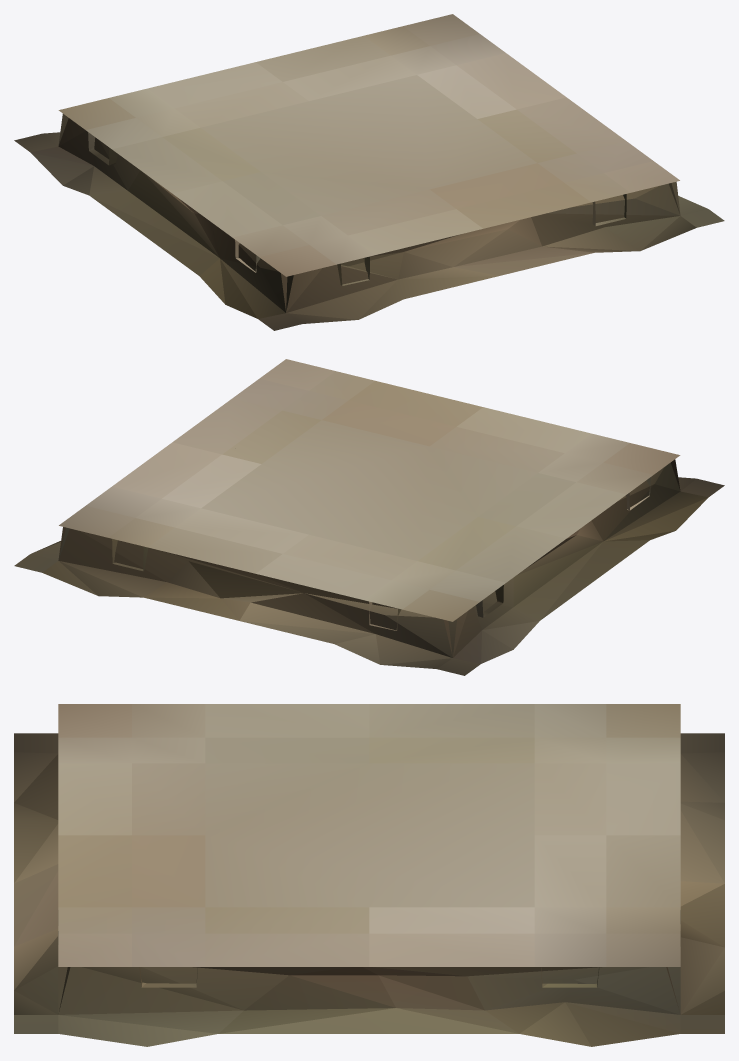
Rendered from Base_UG-4Way.fbx.
3 views of the same model, one above another, from view 1: azimuth 30°, elevation 25°; view 2: azimuth 150°, elevation 25°; view 3: azimuth 270°, elevation 25° (orthographic). The views are drawn at different scales.
Visible parts, largest first — view 1: Base_UG-4Way; view 2: Base_UG-4Way; view 3: Base_UG-4Way.
Part boxes in pixels (box(x1,y1,x2,y2)): Base_UG-4Way: box(14, 14, 724, 330); Base_UG-4Way: box(14, 359, 724, 675); Base_UG-4Way: box(14, 704, 724, 1046).
Bounding box in the file's own units: 400 × 38.01 × 400.
